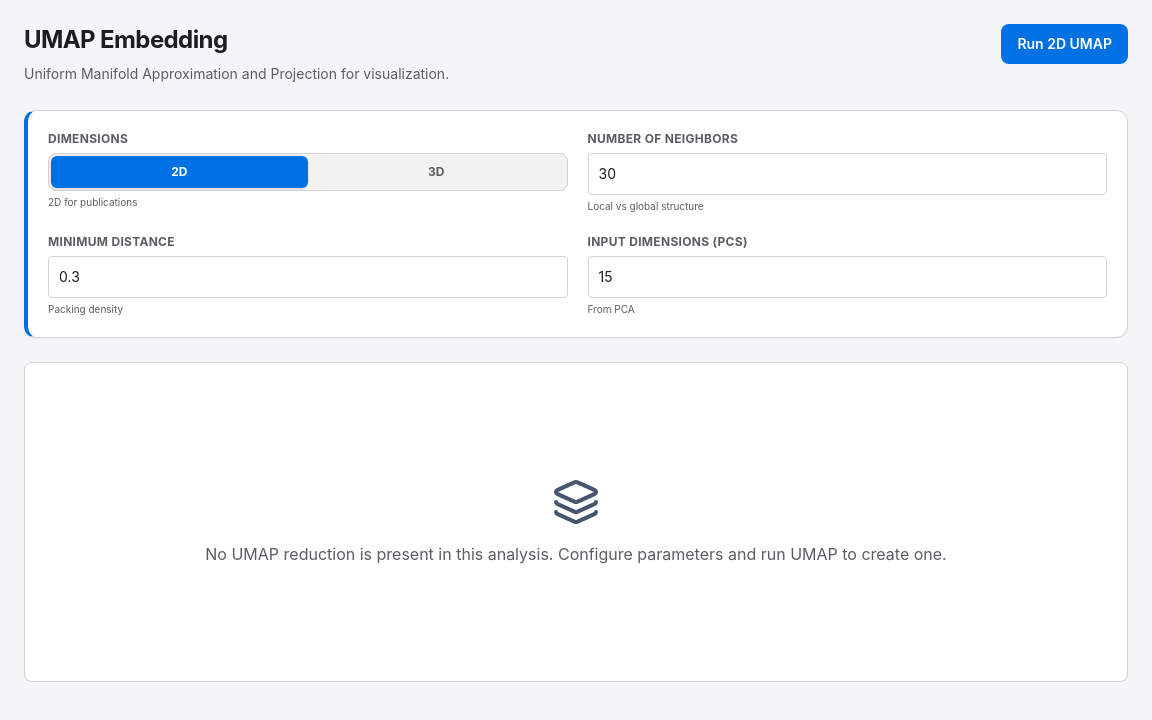
Test: UMAPView › uses edited UMAP parameters and marks a successful run as recomputable
Step 1. Replace the text in the number field labelled "Number of Neighbors" with "42" → [847, 174], box [588,153,1107,195]
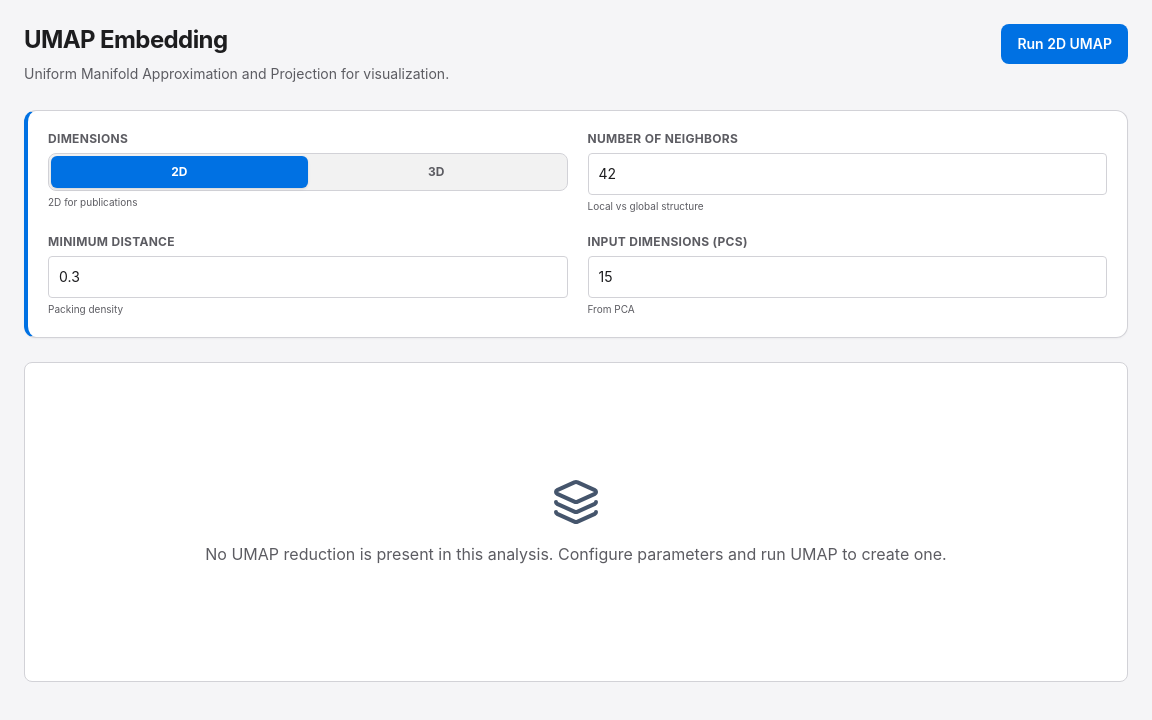
Step 2. Replace the text in the number field labelled "Minimum Distance" with "0.5" → [308, 277], box [48,256,568,298]
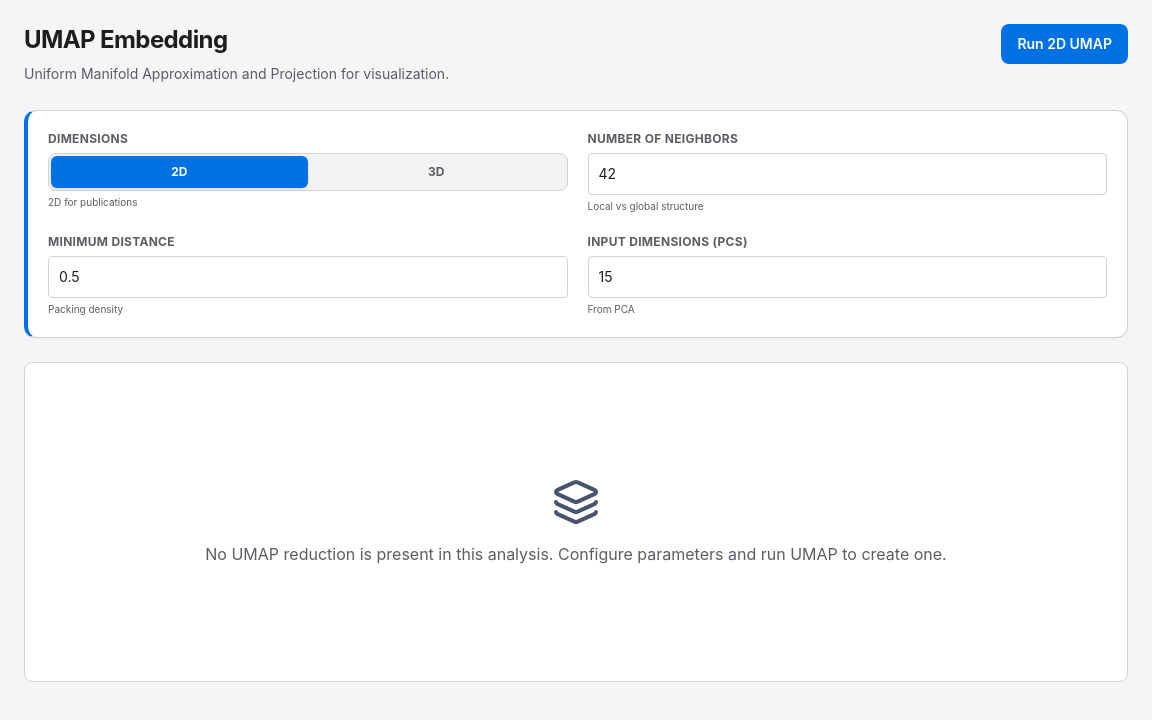
Step 3. Click the button "Run 2D UMAP" → [1065, 44], box [1001,24,1128,64]
(page scrolled)
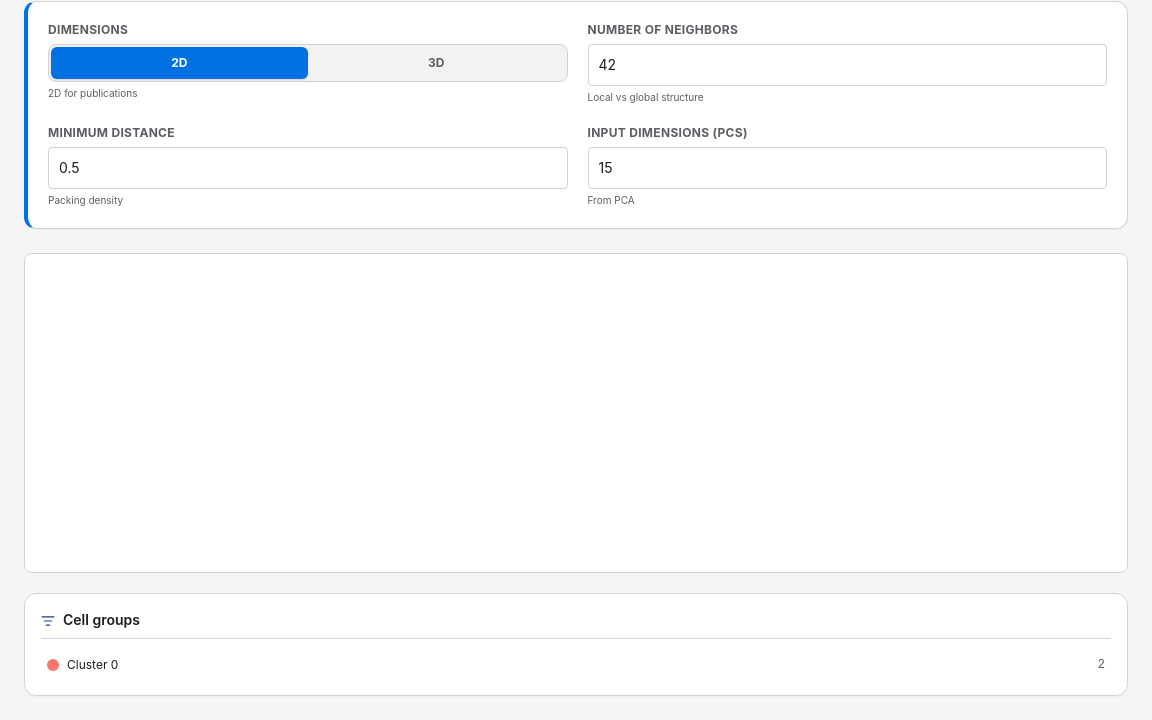
Expected: the text "Cluster 0" is shown, [67,657,118,673]
